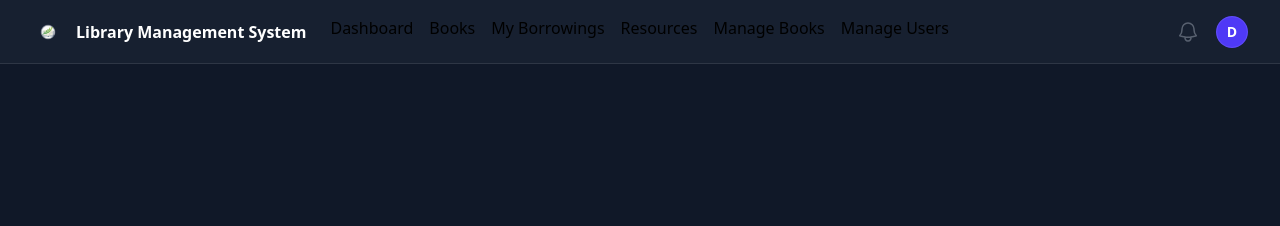
it: NavigationBar › should open profile menu when profile button is clicked
Click the button with test id "profile-menu-button": (1232, 32) [1216,16,1248,48]
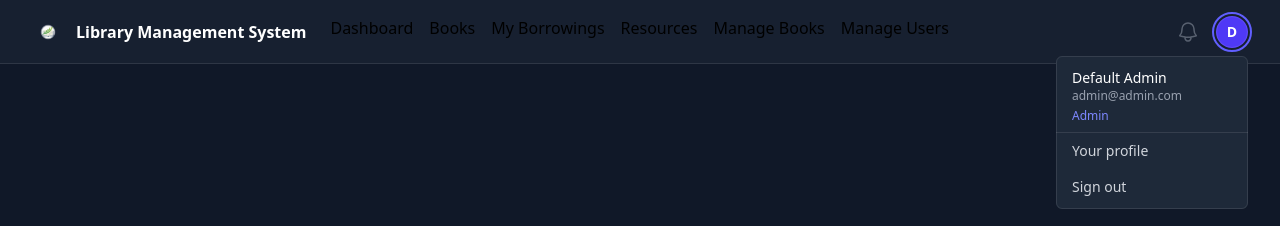
Expected: the element with test id "profile-menu" is shown, [1056,56,1248,209]
